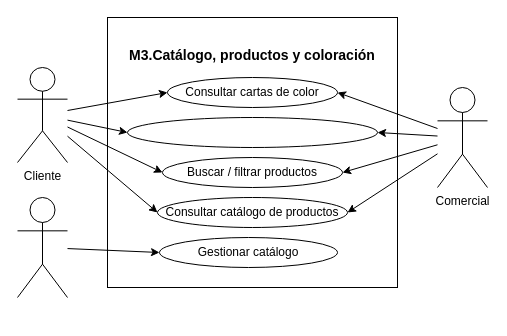
This 507x336 diagram has some shape labels left out. Each missing label, with the centre of its shape:
"Admin" belongs at (42,247).
"Consultar información técnica de productos" belongs at (252,132).
